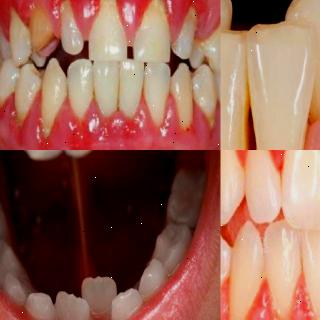Gum Swelling: (48, 0, 140, 39), (74, 100, 132, 150), (22, 97, 72, 150), (134, 101, 188, 150), (146, 0, 210, 40), (190, 106, 220, 150), (0, 88, 20, 150), (0, 0, 34, 30)
calculus: (237, 79, 259, 150)
maligned: (249, 12, 311, 150), (284, 0, 320, 122), (220, 26, 248, 150), (80, 265, 121, 320), (55, 289, 93, 320)
plaque: (220, 283, 320, 320)
